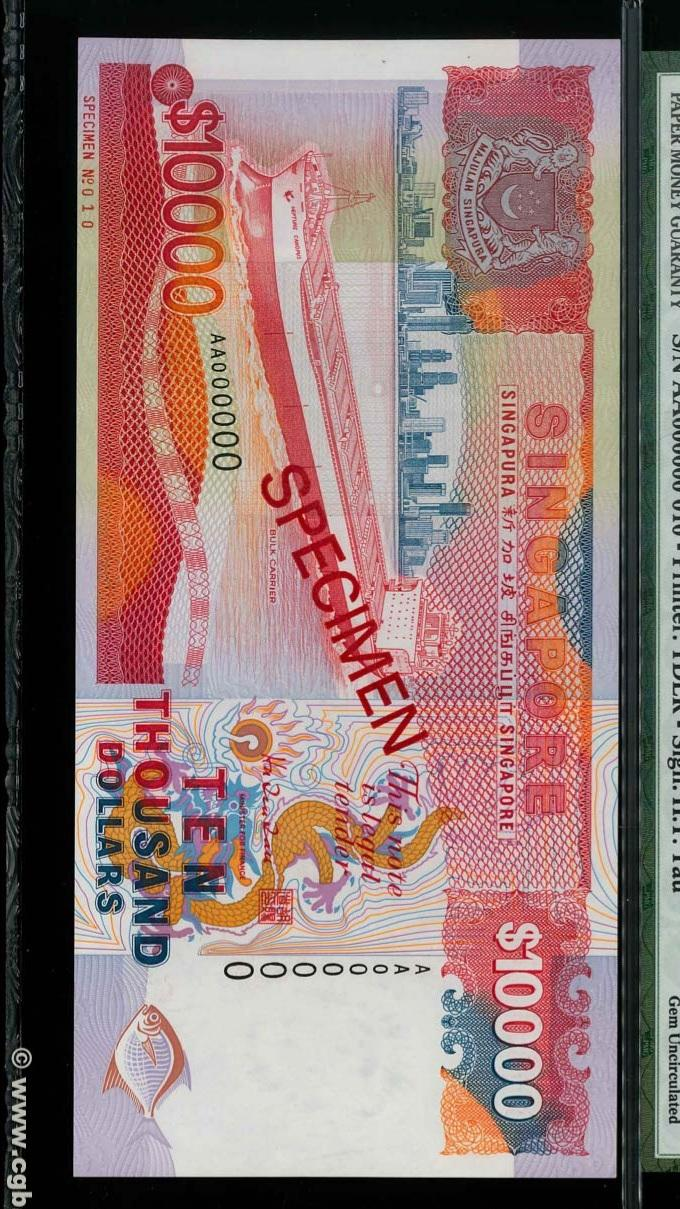10000SingaporeDollar: (83, 40, 610, 1173)
